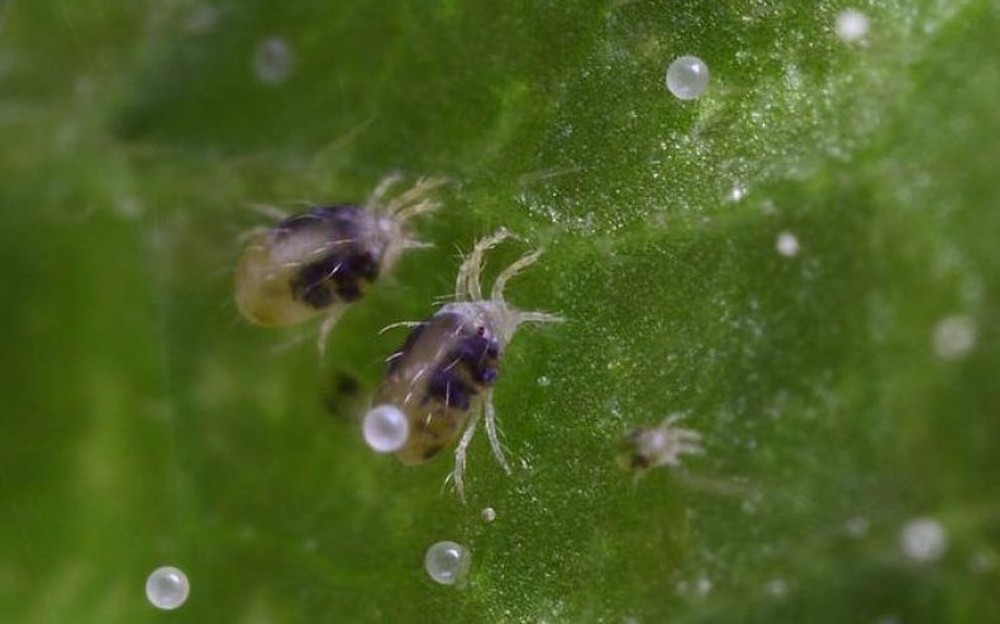Aracnido Rojo: (367, 236, 570, 502), (195, 155, 466, 336), (595, 397, 711, 485)
